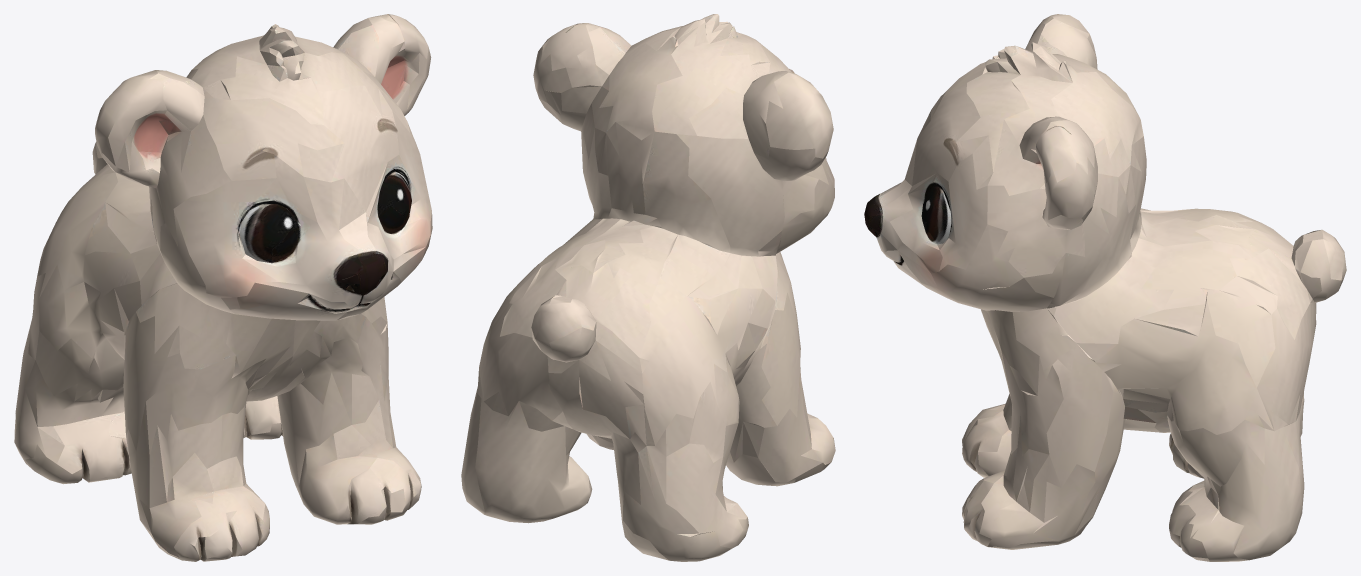
Rendered from toy-polarbear.prefab.glb.
3 renders of one model, left to right at view 1: azimuth 30°, elevation 25°; view 2: azimuth 150°, elevation 25°; view 3: azimuth 270°, elevation 25°, orthographic. The views are drawn at different scales.
Visible parts, largest first — view 1: Prize_Batch0; view 2: Prize_Batch0; view 3: Prize_Batch0.
Boxes of the visible parts, x1,y1,x2,y2 form: Prize_Batch0: (14, 14, 432, 561); Prize_Batch0: (461, 14, 835, 561); Prize_Batch0: (864, 14, 1346, 561).
Bounding box in the file's own units: 0.0234 × 0.0333 × 0.032.
1 material, 1 textured.
